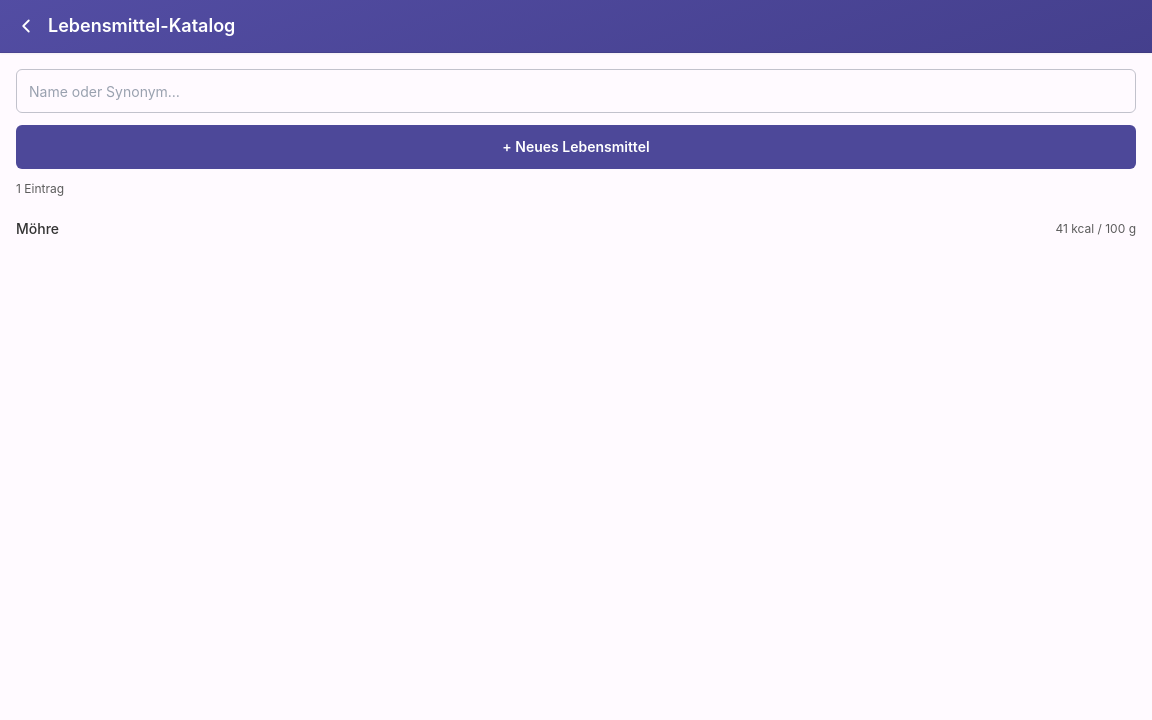
Scenario: CatalogManagerScreen — editing › saves a corrected macro and shows the new value in the list
Click the button with aria-label "möhre bearbeiten" at (38, 228), box [16, 209, 1136, 249]
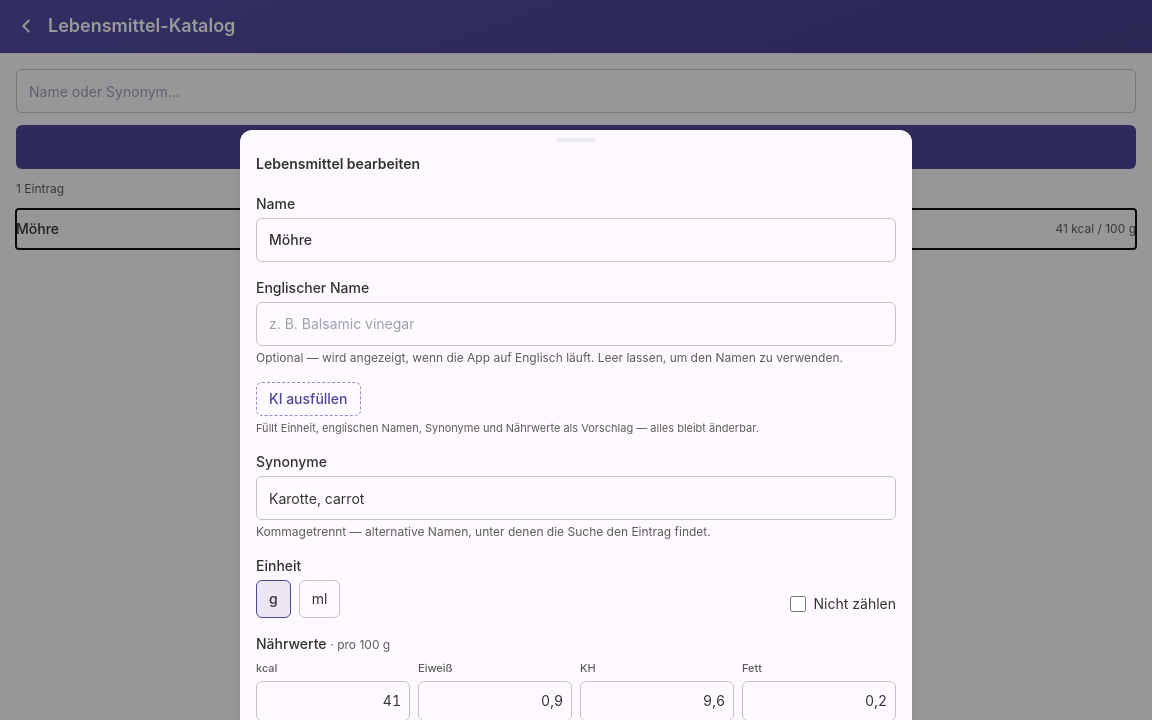
Clear the field labelled "kcal" at (333, 701), box [256, 681, 410, 719]
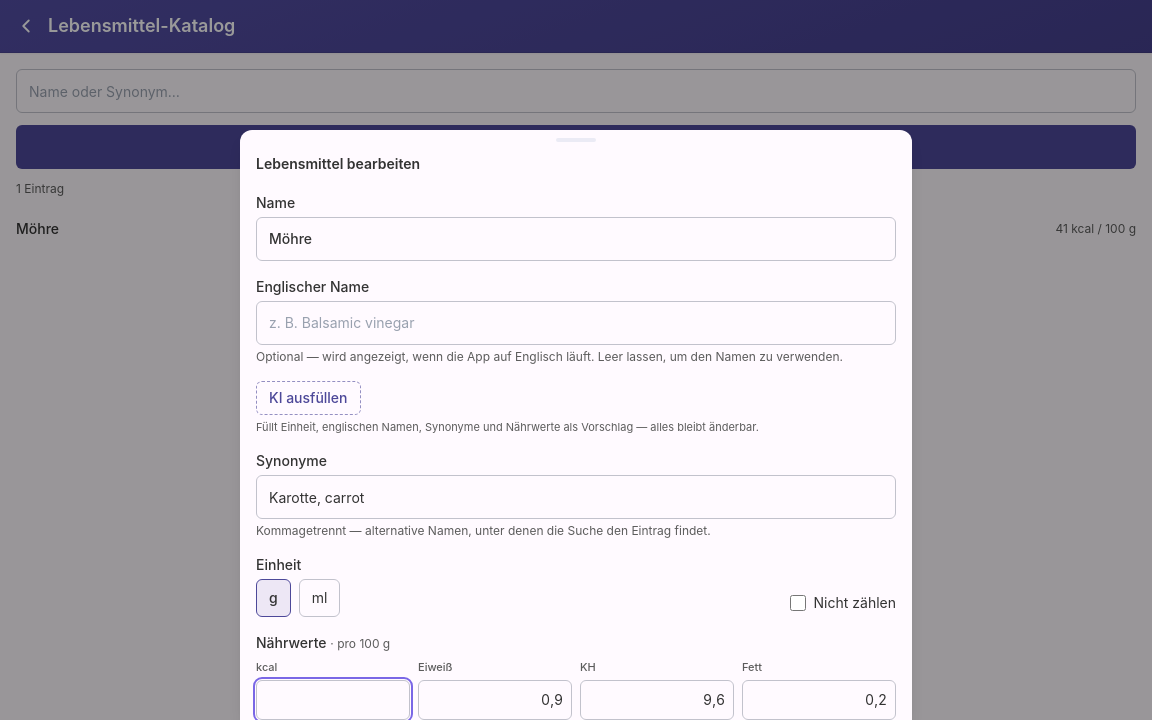
Type "25" into the field labelled "kcal" at (333, 700), box [256, 680, 410, 719]
(page scrolled)
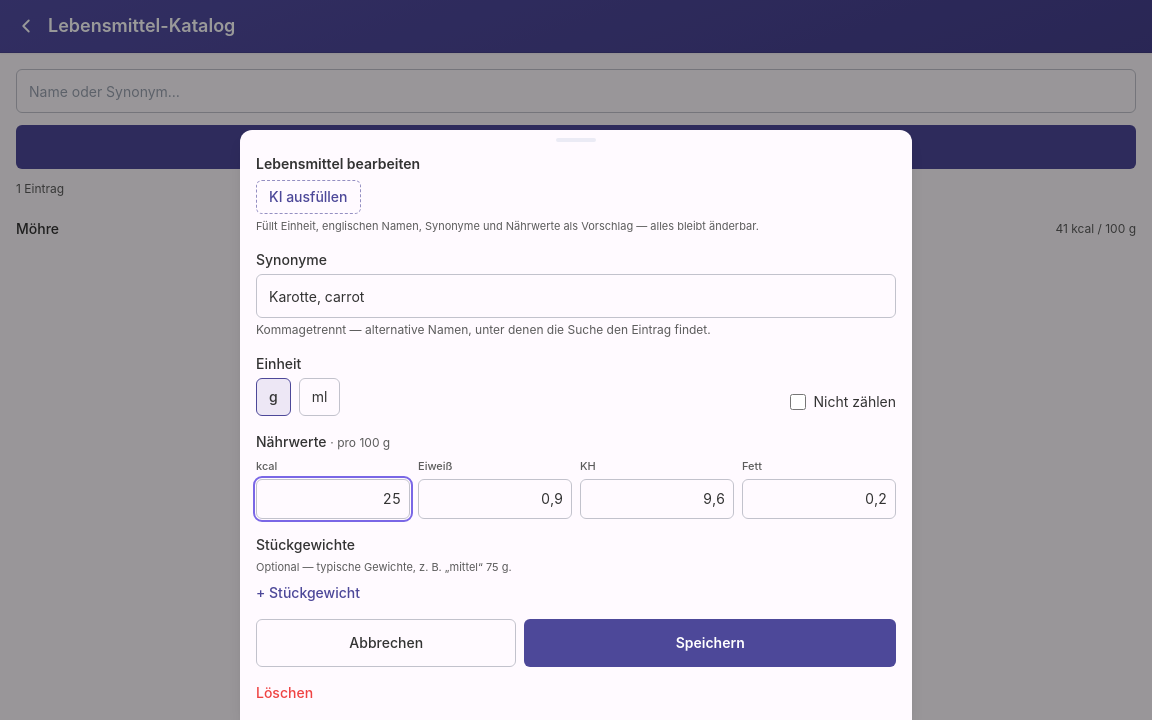
Click the button "Speichern" at (710, 643), box [524, 619, 896, 667]
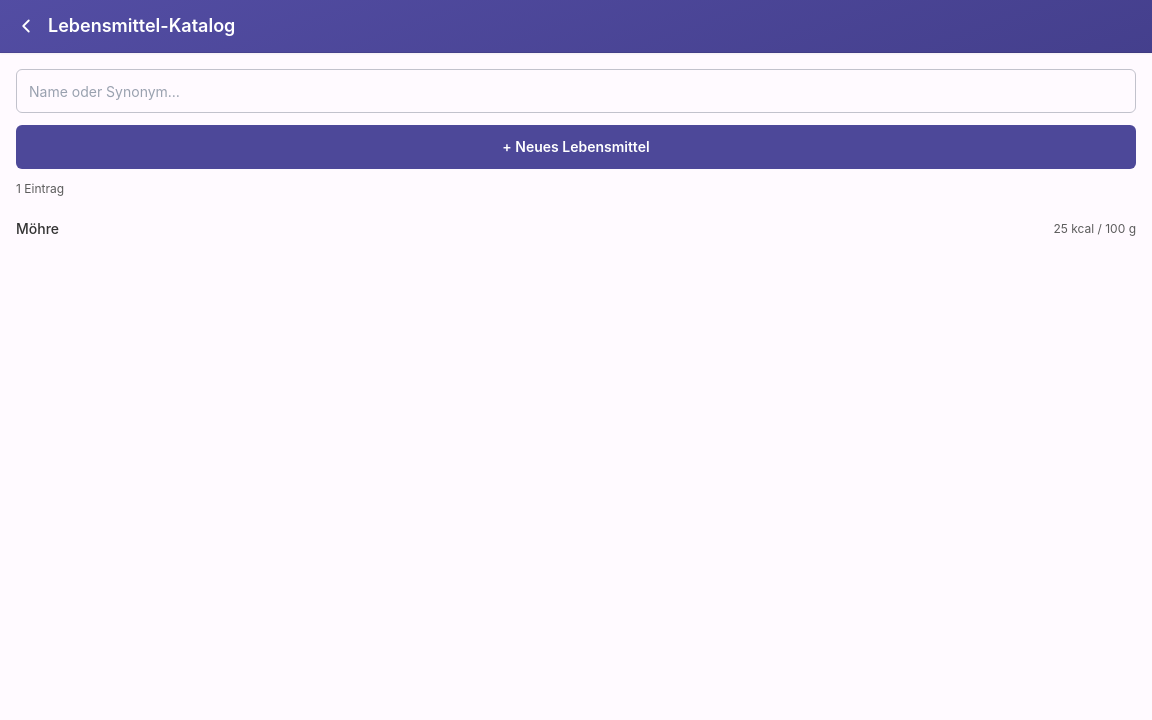
Now the text "25 kcal / 100 g" is shown, box [1053, 221, 1136, 237]
